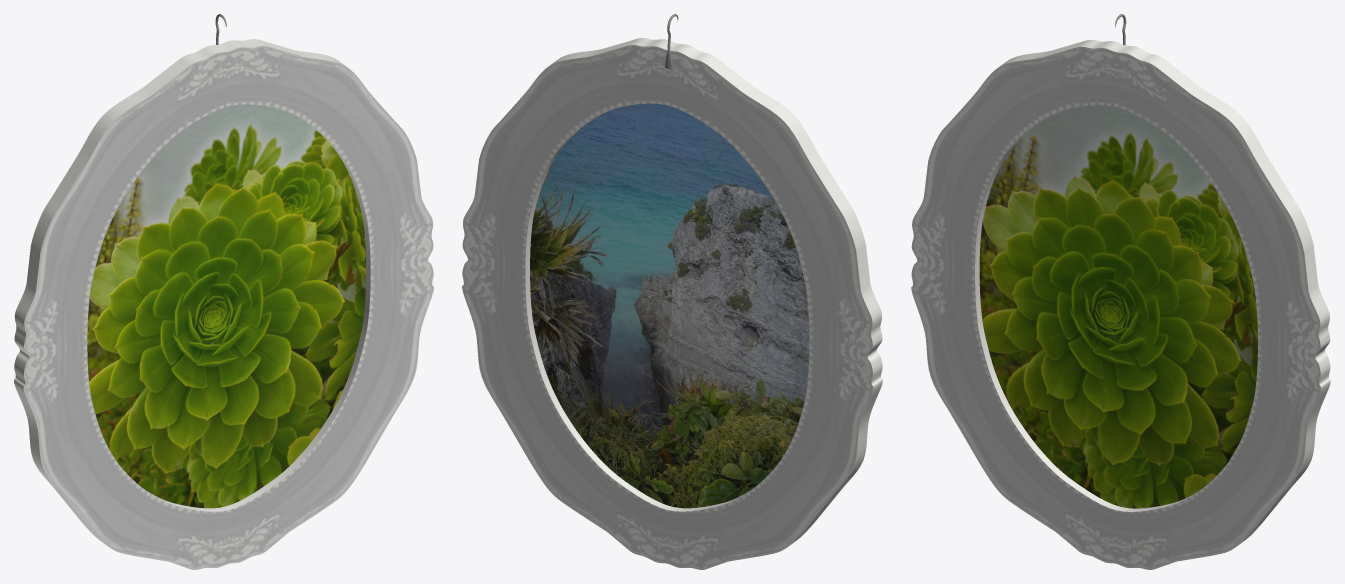
The model's file is Frame_011.FBX.
3 renders of one model, left to right at view 1: azimuth 30°, elevation 25°; view 2: azimuth 150°, elevation 25°; view 3: azimuth 330°, elevation 25°, orthographic.
Parts seen in each view (by area): view 1: Frame_011; view 2: Frame_011; view 3: Frame_011.
Part boxes in pixels (x1,y1,x2,y2): Frame_011: (14,39,433,569); Frame_011: (462,38,882,569); Frame_011: (911,40,1330,569).
Size of the model in its own units: 665 by 846 by 30.78.
